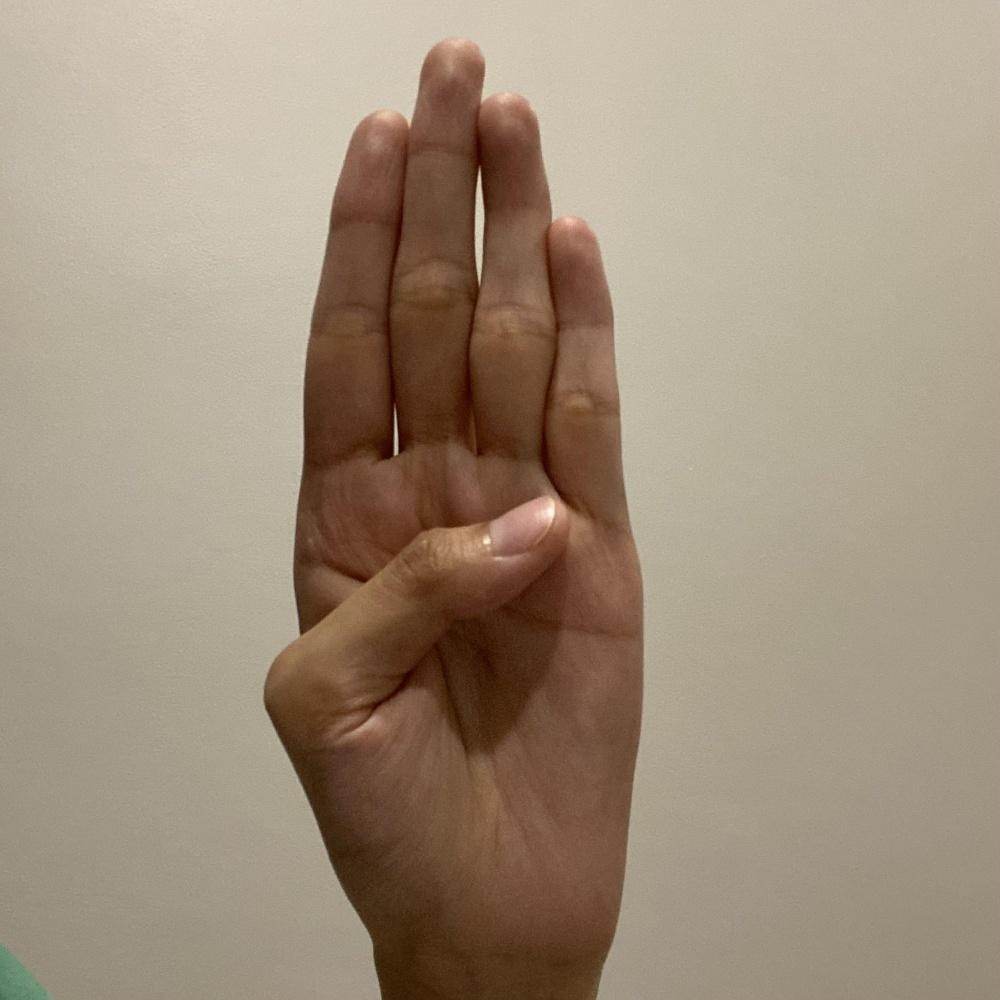b: (257, 26, 648, 983)
